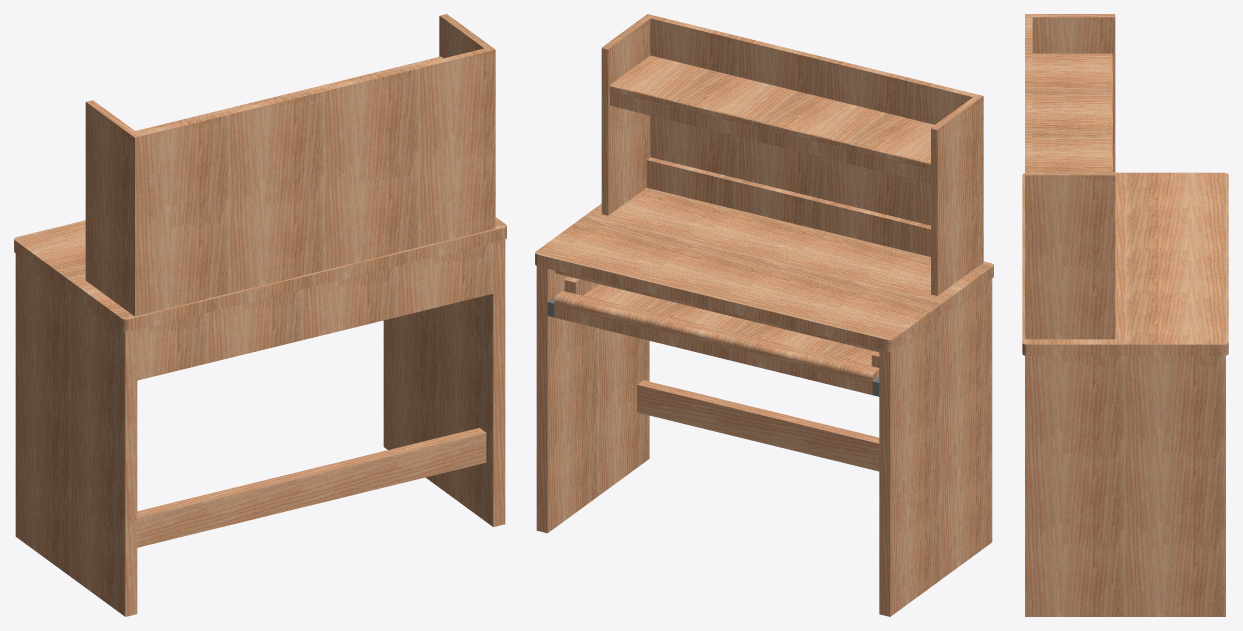
Rendered from Desk.glb.
The picture shows the model from 3 angles, left to right: view 1: azimuth 30°, elevation 25°; view 2: azimuth 150°, elevation 25°; view 3: azimuth 270°, elevation 25°; orthographic projection. The views are drawn at different scales.
Visible parts, largest first — view 1: Solid1 (×2); view 2: Solid1 (×3), Solid2; view 3: Solid1 (×2).
Part boxes in pixels (<box>): Solid1 (×2): <box>14,14,506,616</box>; Solid1 (×3): <box>535,14,993,616</box>; Solid2: <box>554,291,879,383</box>; Solid1 (×2): <box>1022,14,1228,616</box>.
Size of the model in its own units: 1.03 by 1.22 by 0.5207.
Materials: 2 (2 with a texture image).
